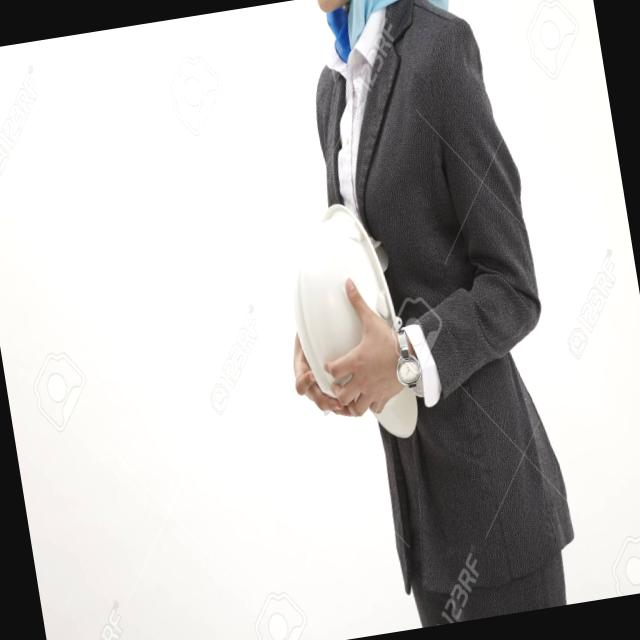helmet: (278, 188, 436, 484)
no-vest: (316, 49, 558, 530)
